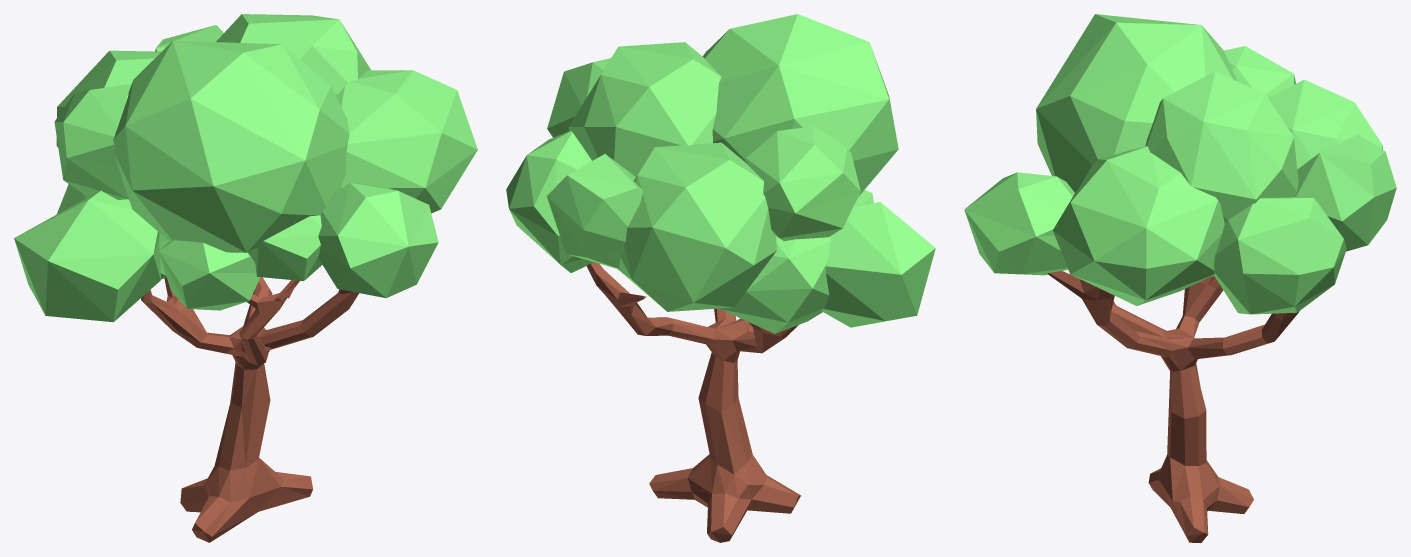
File: Tree_2.fbx
3 views of the same model, side by side, from view 1: azimuth 30°, elevation 25°; view 2: azimuth 150°, elevation 25°; view 3: azimuth 270°, elevation 25° (orthographic). The views are drawn at different scales.
Parts seen in each view (by area): view 1: Icosphere.020, Plane.004, Icosphere.013, Icosphere.019, Icosphere.012, Icosphere.014, Icosphere.022, Icosphere.034, Icosphere.018, Icosphere.021, Icosphere.016, Icosphere.015; view 2: Icosphere.020, Icosphere.021, Plane.004, Icosphere.022, Icosphere.019, Icosphere.014, Icosphere.016, Icosphere.015, Icosphere.017, Icosphere.013; view 3: Icosphere.013, Icosphere.020, Plane.004, Icosphere.022, Icosphere.017, Icosphere.012, Icosphere.016, Icosphere.021, Icosphere.014.
Part boxes in pixels (box(x1,y1,x2,y2)): Icosphere.020: box(113, 40, 349, 252); Plane.004: box(141, 277, 359, 542); Icosphere.013: box(336, 70, 477, 213); Icosphere.019: box(14, 190, 160, 322); Icosphere.012: box(318, 183, 438, 298); Icosphere.014: box(54, 84, 131, 199); Icosphere.022: box(216, 14, 370, 95); Icosphere.034: box(158, 240, 260, 310); Icosphere.018: box(248, 215, 322, 280); Icosphere.021: box(56, 50, 161, 147); Icosphere.016: box(155, 25, 223, 51); Icosphere.015: box(56, 184, 169, 279); Icosphere.020: box(702, 14, 898, 196); Icosphere.021: box(618, 142, 776, 311); Plane.004: box(586, 262, 800, 542); Icosphere.022: box(568, 42, 721, 176); Icosphere.019: box(821, 202, 935, 327); Icosphere.014: box(745, 126, 860, 241); Icosphere.016: box(547, 154, 642, 268); Icosphere.015: box(720, 236, 830, 333); Icosphere.017: box(506, 131, 593, 272); Icosphere.013: box(547, 58, 610, 137); Icosphere.013: box(1052, 146, 1224, 305); Icosphere.020: box(1036, 14, 1236, 192); Plane.004: box(1047, 271, 1299, 542); Icosphere.022: box(1145, 71, 1298, 222); Icosphere.017: box(1214, 196, 1346, 314); Icosphere.012: box(964, 172, 1074, 275); Icosphere.016: box(1294, 134, 1396, 251); Icosphere.021: box(1268, 79, 1382, 169); Icosphere.014: box(1224, 46, 1295, 97).
Size of the model in its own units: 1794 by 2137 by 1732.
